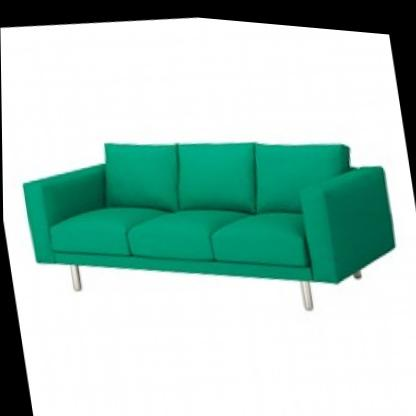Sofa: (3, 80, 412, 368)
